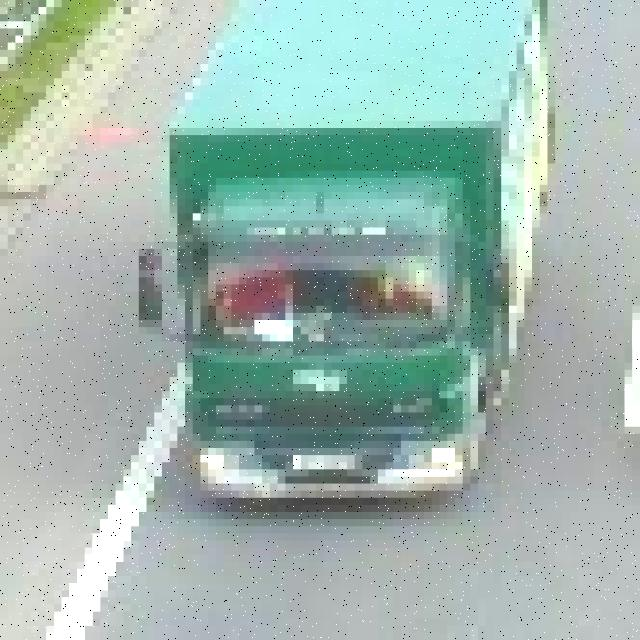truck: (146, 0, 563, 498)
